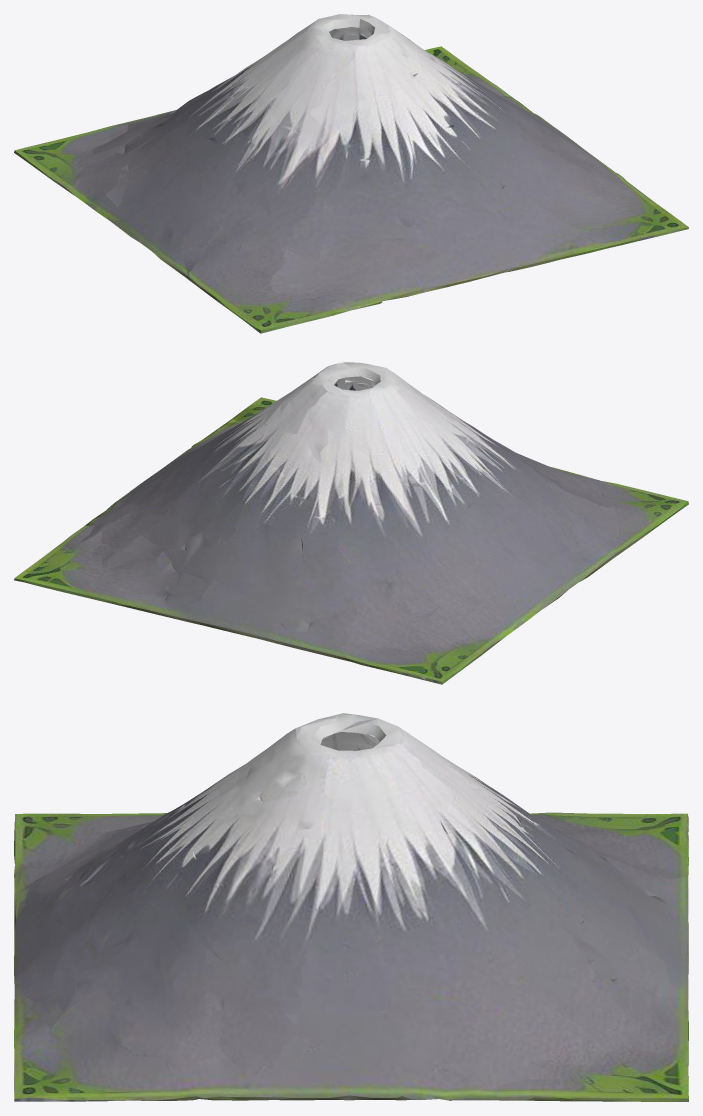
File: mount-fuji.glb
3 renders of one model, top to bottom at view 1: azimuth 30°, elevation 25°; view 2: azimuth 150°, elevation 25°; view 3: azimuth 270°, elevation 25°, orthographic. The views are drawn at different scales.
Visible parts, largest first — view 1: logan-textured.obj; view 2: logan-textured.obj; view 3: logan-textured.obj.
Part boxes in pixels (x1=…): logan-textured.obj: x1=14, y1=14, x2=688, y2=333; logan-textured.obj: x1=14, y1=362, x2=688, y2=684; logan-textured.obj: x1=14, y1=713, x2=688, y2=1101.
Size of the model in its own units: 1 by 0.3644 by 0.9985.
1 material, 1 textured.
